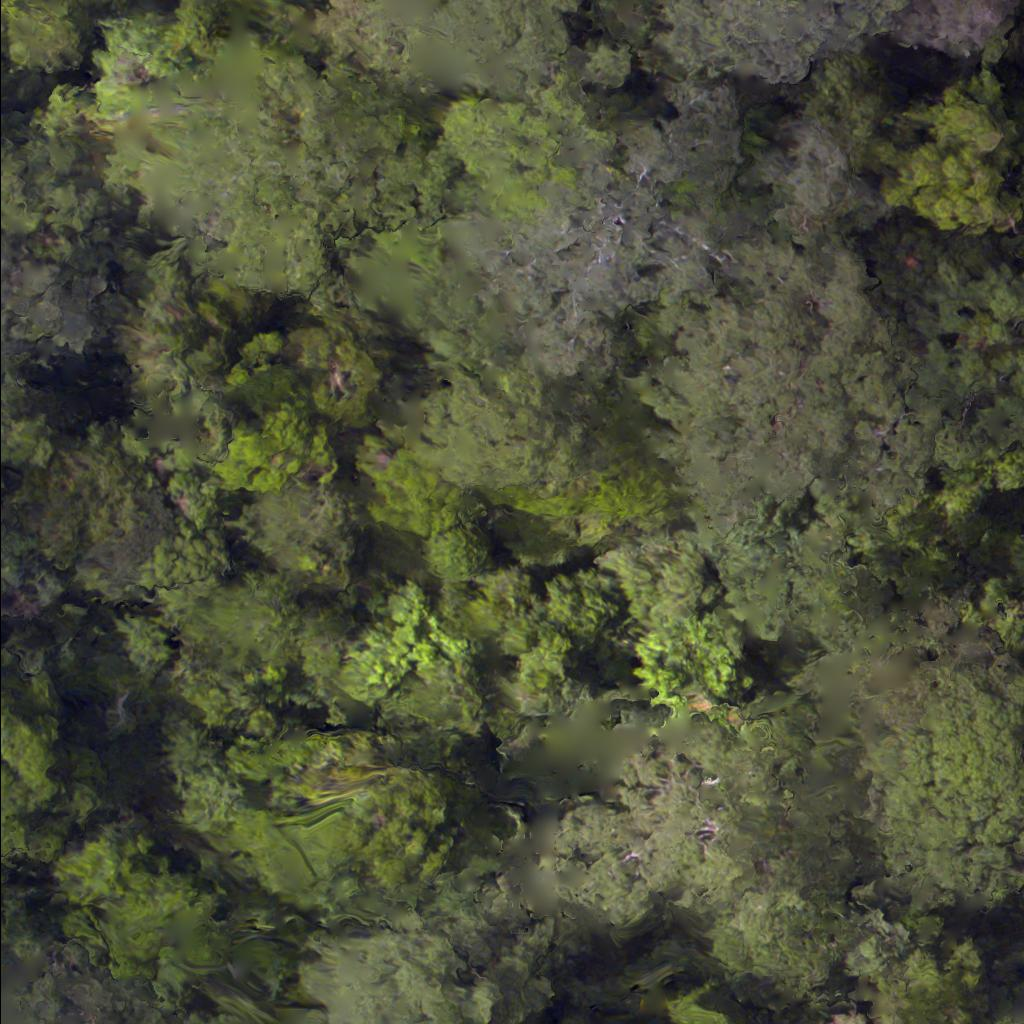crown: (863, 78, 1023, 229), (1023, 14, 1023, 19)
